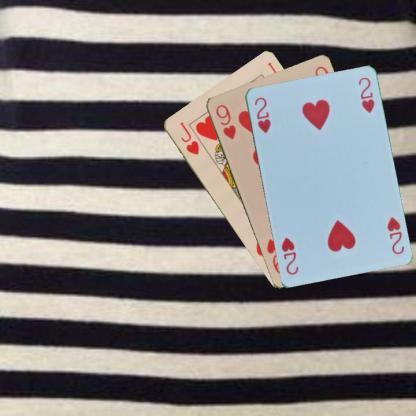2h: (384, 214, 406, 255), (252, 94, 272, 135)
9h: (213, 102, 237, 141)
Jh: (176, 119, 201, 156)
